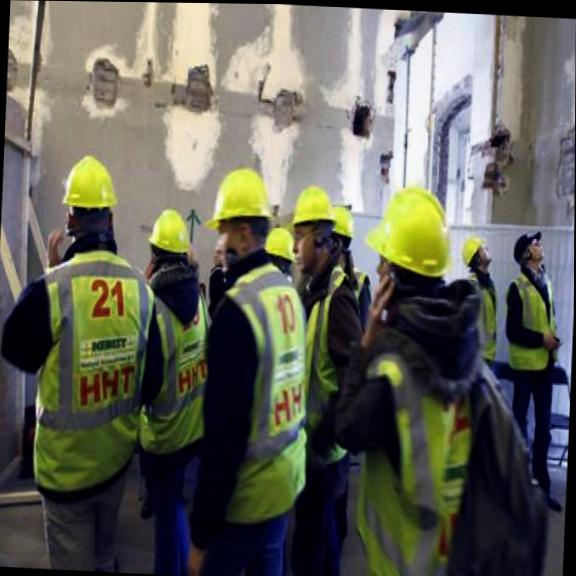safety_vest: (27, 246, 151, 496), (355, 350, 476, 576), (211, 263, 314, 527), (134, 276, 211, 455), (302, 259, 360, 468), (502, 276, 559, 372), (470, 282, 498, 360)
